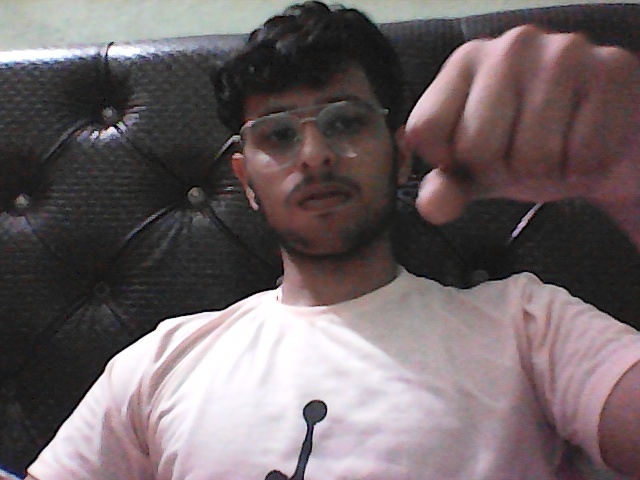yes: (367, 22, 640, 269)
